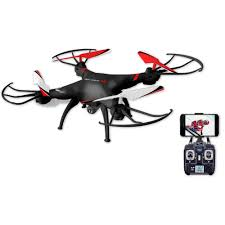Drone: (3, 21, 205, 143)
